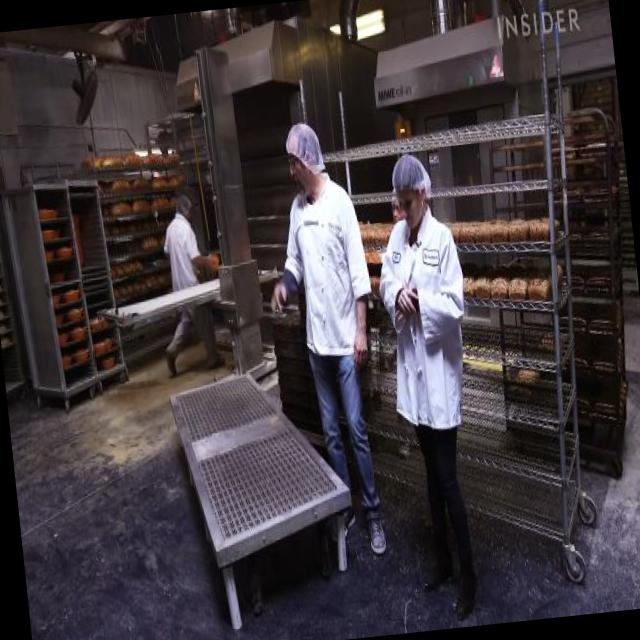hairnet: (283, 116, 328, 172), (391, 153, 434, 200), (174, 192, 192, 217)
